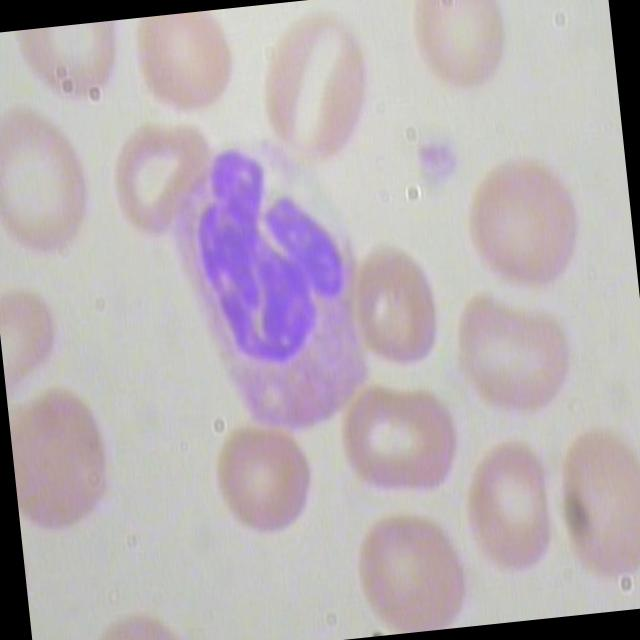RBC: (450, 139, 590, 313), (6, 378, 142, 538), (255, 8, 377, 176), (446, 284, 586, 427), (320, 237, 460, 380), (330, 373, 469, 516), (92, 111, 231, 254), (339, 497, 478, 638), (455, 431, 568, 584), (543, 414, 640, 591), (0, 101, 97, 269), (208, 426, 320, 557), (120, 8, 250, 120), (408, 0, 520, 109)
WBC: (133, 123, 387, 446)
